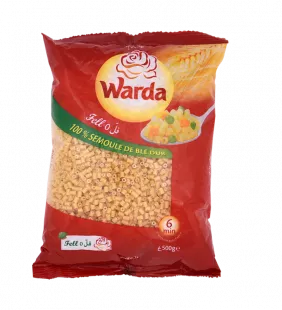LA ROSE BLANCHE: (28, 20, 236, 284)
